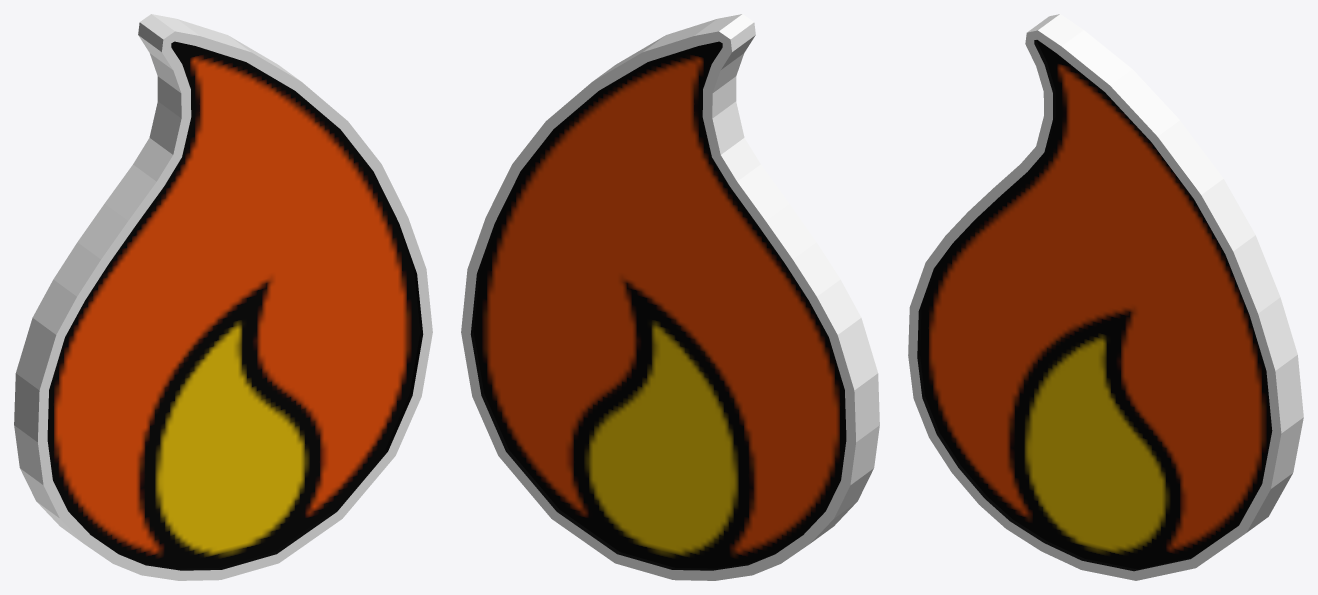
File: barista-hot.gltf
The picture shows the model from 3 angles, left to right: view 1: azimuth 30°, elevation 25°; view 2: azimuth 150°, elevation 25°; view 3: azimuth 330°, elevation 25°; orthographic projection. The views are drawn at different scales.
Parts seen in each view (by area): view 1: barista-hot; view 2: barista-hot; view 3: barista-hot.
Part boxes in pixels (x1,y1,x2,y2): barista-hot: (14, 14, 432, 580); barista-hot: (461, 14, 879, 580); barista-hot: (908, 14, 1303, 580).
Size of the model in its own units: 0.48 by 0.65 by 0.05.
Materials: 1 (1 with a texture image).
